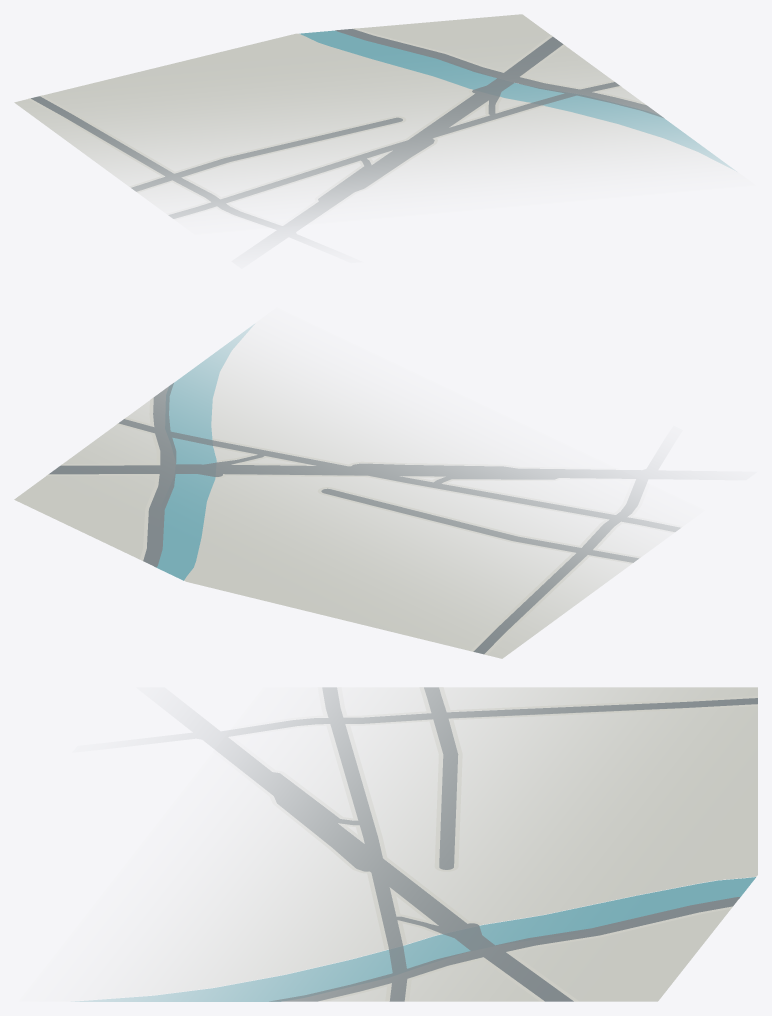
3 renders of one model, top to bottom at view 1: azimuth 30°, elevation 25°; view 2: azimuth 150°, elevation 25°; view 3: azimuth 270°, elevation 25°, orthographic. The views are drawn at different scales.
Visible parts, largest first — view 1: city; view 2: city; view 3: city.
Part boxes in pixels (x1,y1,x2,y2): city: (14,14,736,235); city: (14,324,681,658); city: (75,687,757,1001).
Bounding box in the file's own units: 500 × 0.4 × 500.
